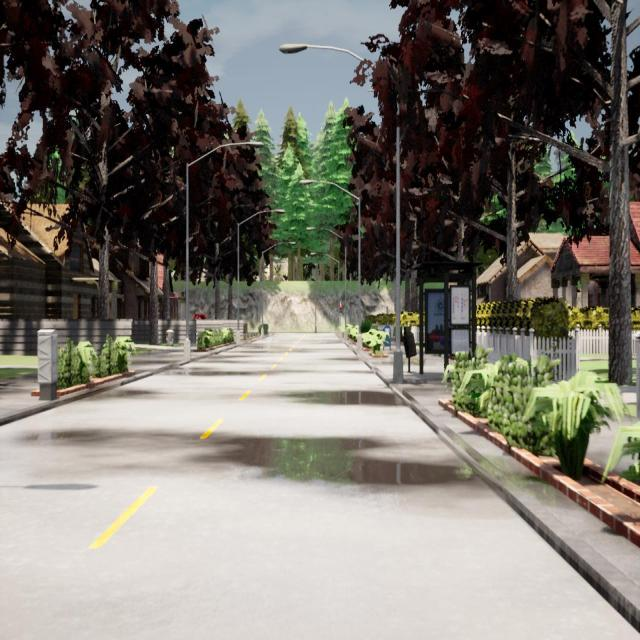traffic_light: (339, 304, 342, 314)
